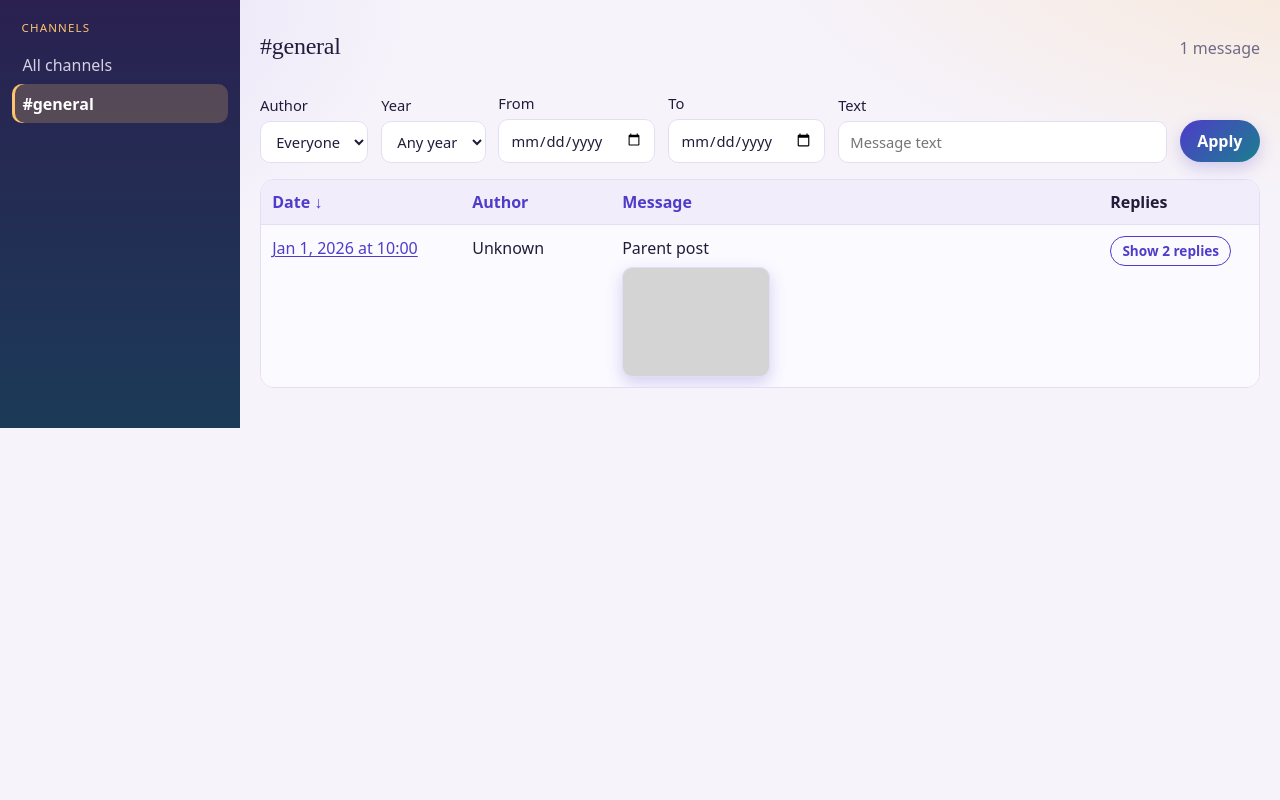
Test: message browser › collapses thread replies under the parent until opened
This screenshot has width=1280, height=800.
Expected: the text "First reply" is not shown
Click the button "Show 2 replies". click: [1171, 251]
box: [1110,236,1231,266]
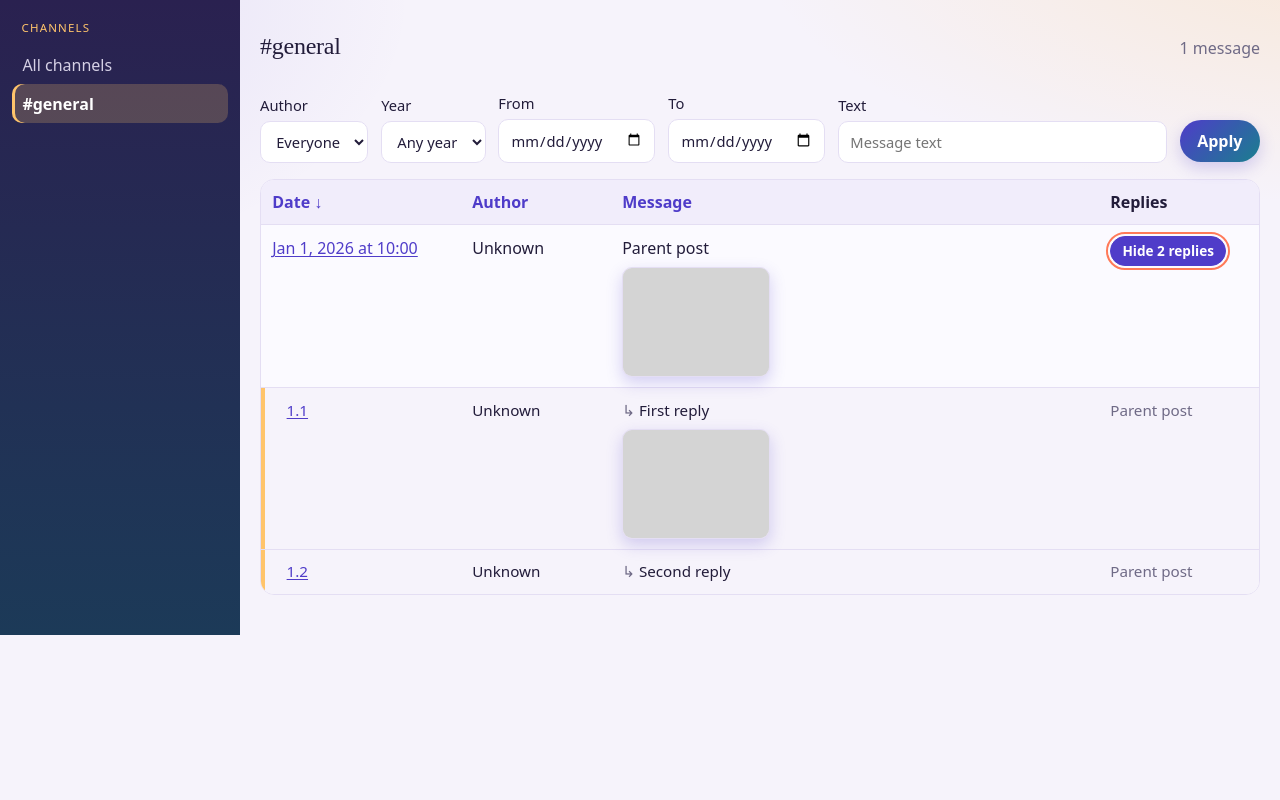
Expected: the text "First reply" is shown, [639,400,709,420]
Expected: the text "Second reply" is shown, [639,562,730,582]
Expected: the button "Hide 2 replies" is shown, [1110,236,1226,266]
